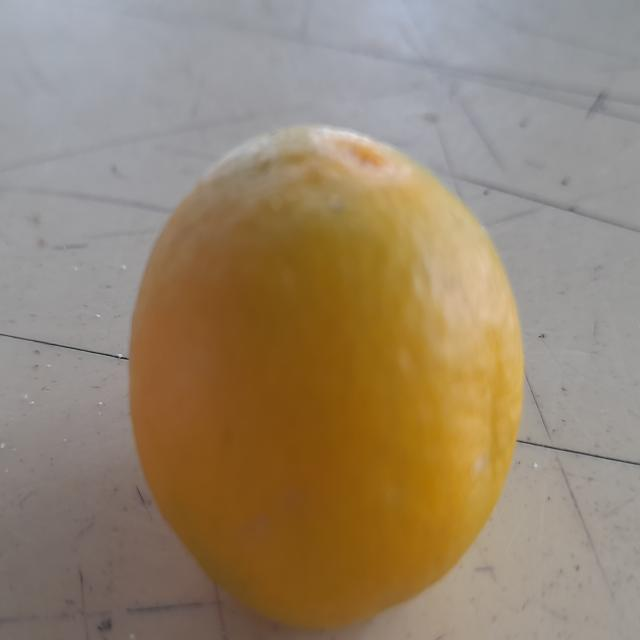greening: (115, 104, 530, 634)
